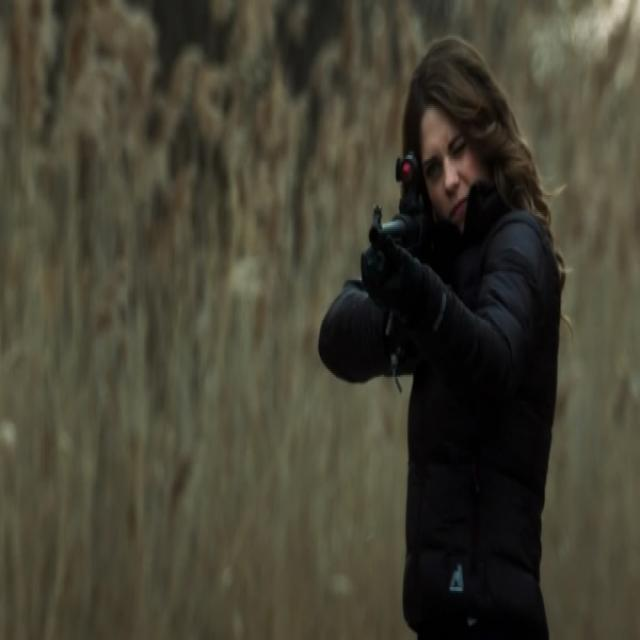rifle: (360, 152, 425, 303)
